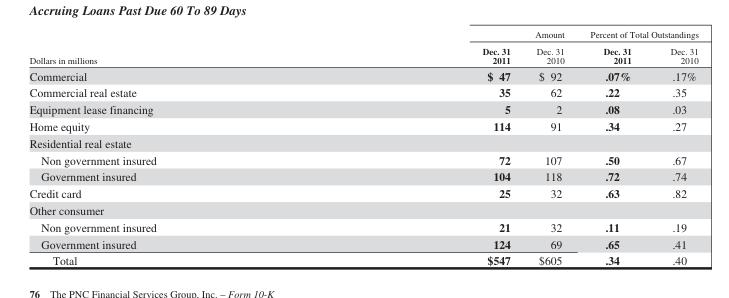table: (28, 28, 697, 266)
table column: (28, 28, 318, 266), (318, 28, 522, 266), (576, 28, 650, 266), (522, 28, 576, 266), (650, 28, 697, 266)
table column header: (28, 28, 697, 66)
table projected row header: (28, 134, 697, 151), (28, 201, 697, 218)
table row: (28, 42, 697, 66), (28, 66, 697, 83), (28, 83, 697, 100), (28, 100, 697, 117), (28, 117, 697, 134), (28, 134, 697, 151), (28, 167, 697, 184), (28, 184, 697, 201), (28, 201, 697, 218), (28, 218, 697, 235), (28, 151, 697, 167), (28, 235, 697, 251), (28, 251, 697, 266), (28, 28, 697, 42)
table spanning cell: (28, 28, 318, 66), (318, 28, 576, 42), (576, 28, 697, 42)
